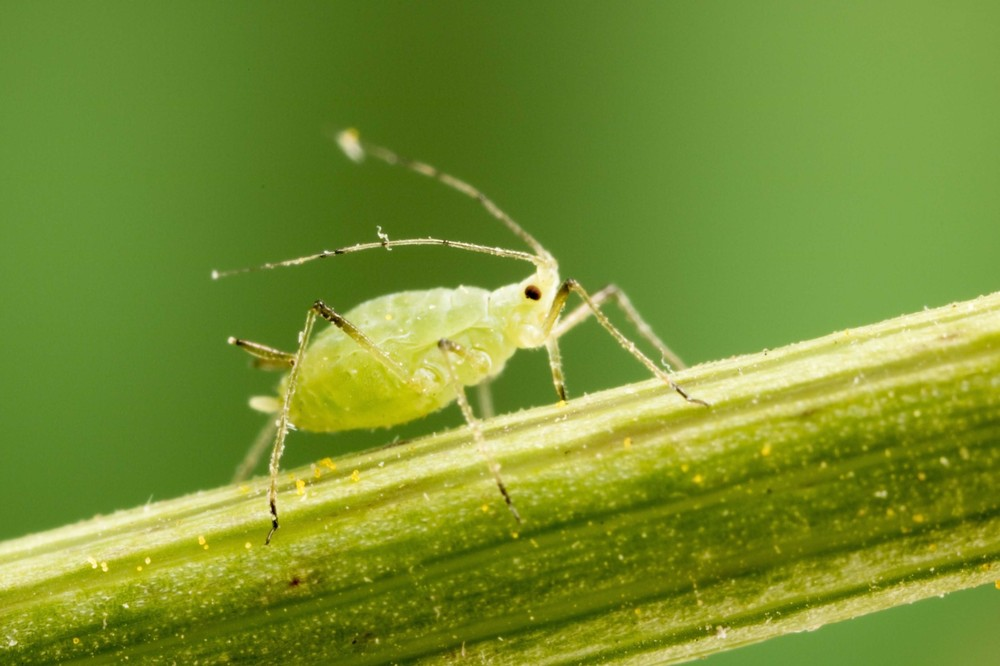Pulgon: (205, 145, 714, 540)
